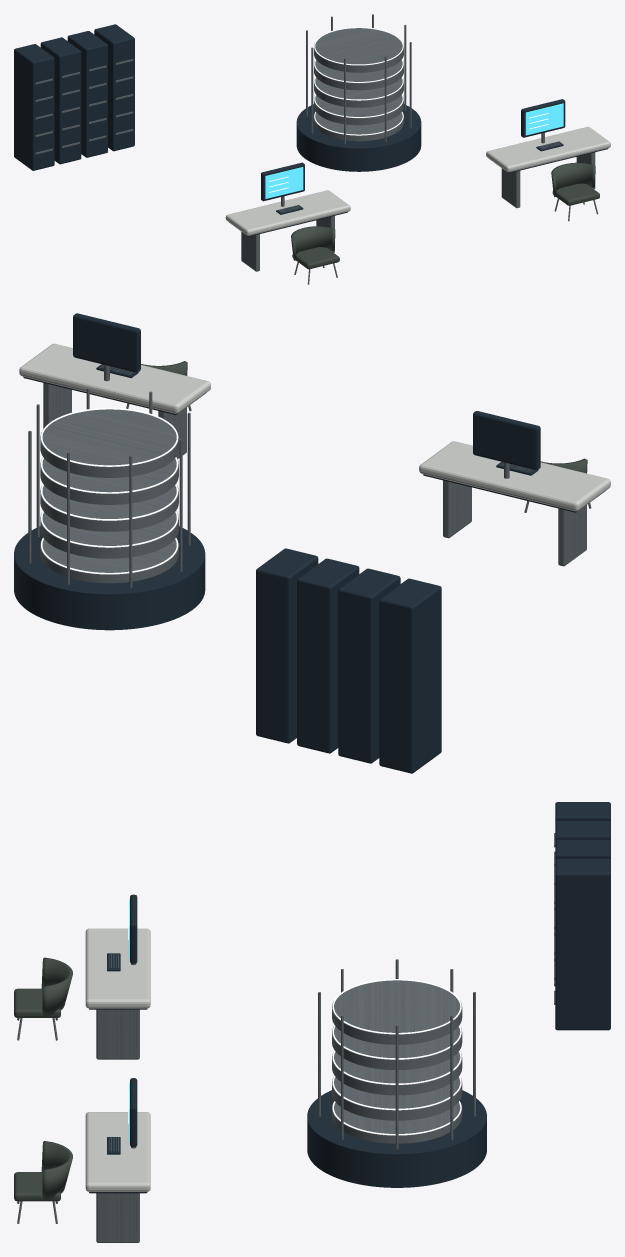
The model's file is technology.glb.
3 views of the same model, one above another, from view 1: azimuth 30°, elevation 25°; view 2: azimuth 150°, elevation 25°; view 3: azimuth 270°, elevation 25° (orthographic). The views are drawn at different scales.
Visible parts, largest first — view 1: Static_technology; view 2: Static_technology; view 3: Static_technology.
Boxes of the visible parts, x1,y1,x2,y2 form: Static_technology: (14,14,610,284); Static_technology: (14,313,610,773); Static_technology: (14,802,610,1242).
Bounding box in the file's own units: 11.2 × 2.8 × 9.63.
6 materials, 2 textured.
